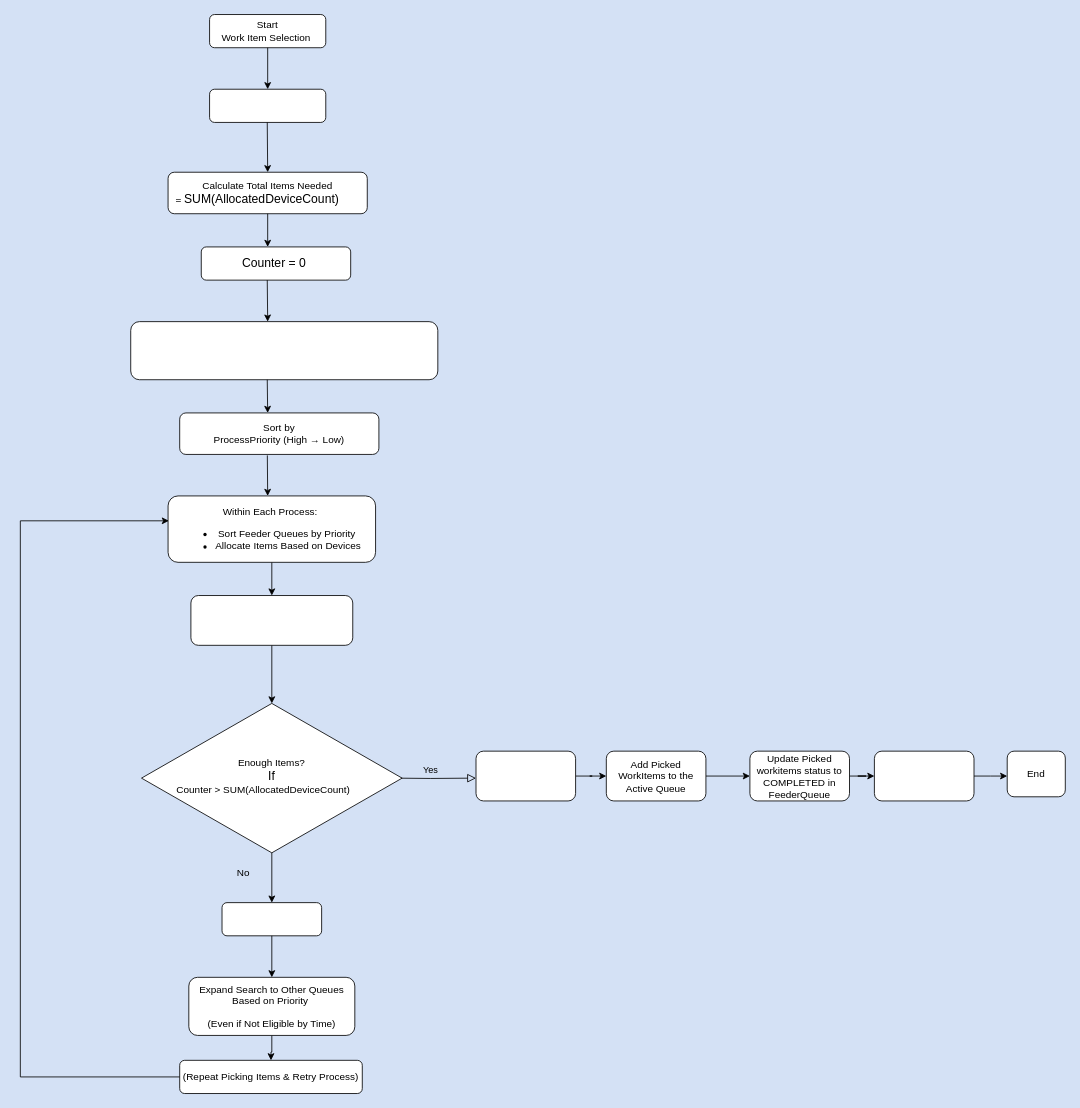
Some shapes in this 1080 by 1108 pixel diagram are drawn without their labels. Each missing label, with the centre of its shape:
"Filter Eligible Queues Check: LastPollTime + Process Cycle Time > Now" goes at point (284, 350).
"Pick Work Items (NEW) If items < required, retry" goes at point (271, 620).
"Read Process Config & CSV" goes at point (267, 105).
"Retry Counter +1" goes at point (271, 919).
"Update Picked workitems status to ON_HOLD in FeederQueue" goes at point (525, 775).
"Update the LastPoll and LastCron on Selected Queues." goes at point (924, 775).
